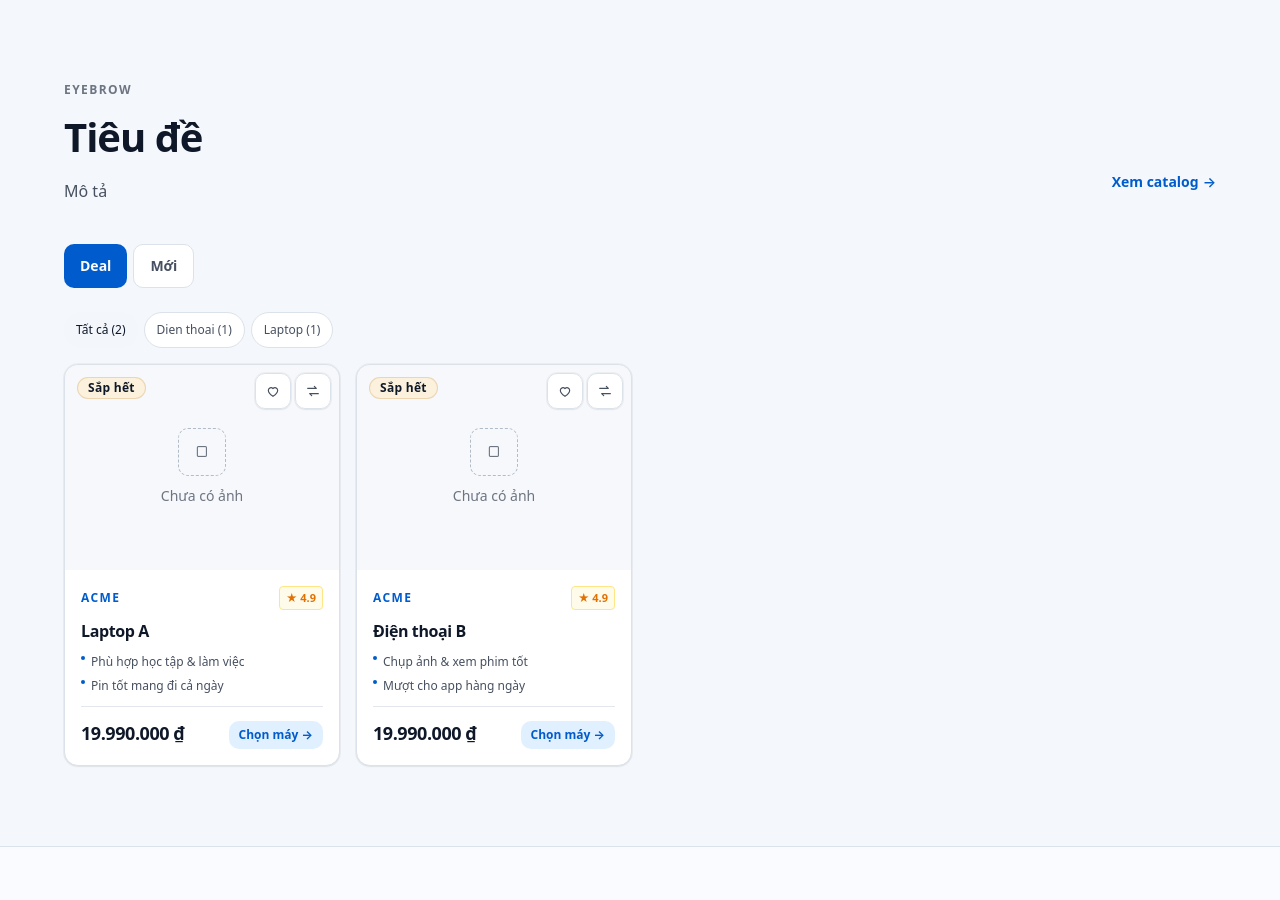
Test case: DealTabsSection › filters the loaded products by category without navigating
# Counts come from the products actually on screen.
Click the button "Dien thoai (1)" at coordinates (194, 330), box x1=144 y1=312 x2=245 y2=348
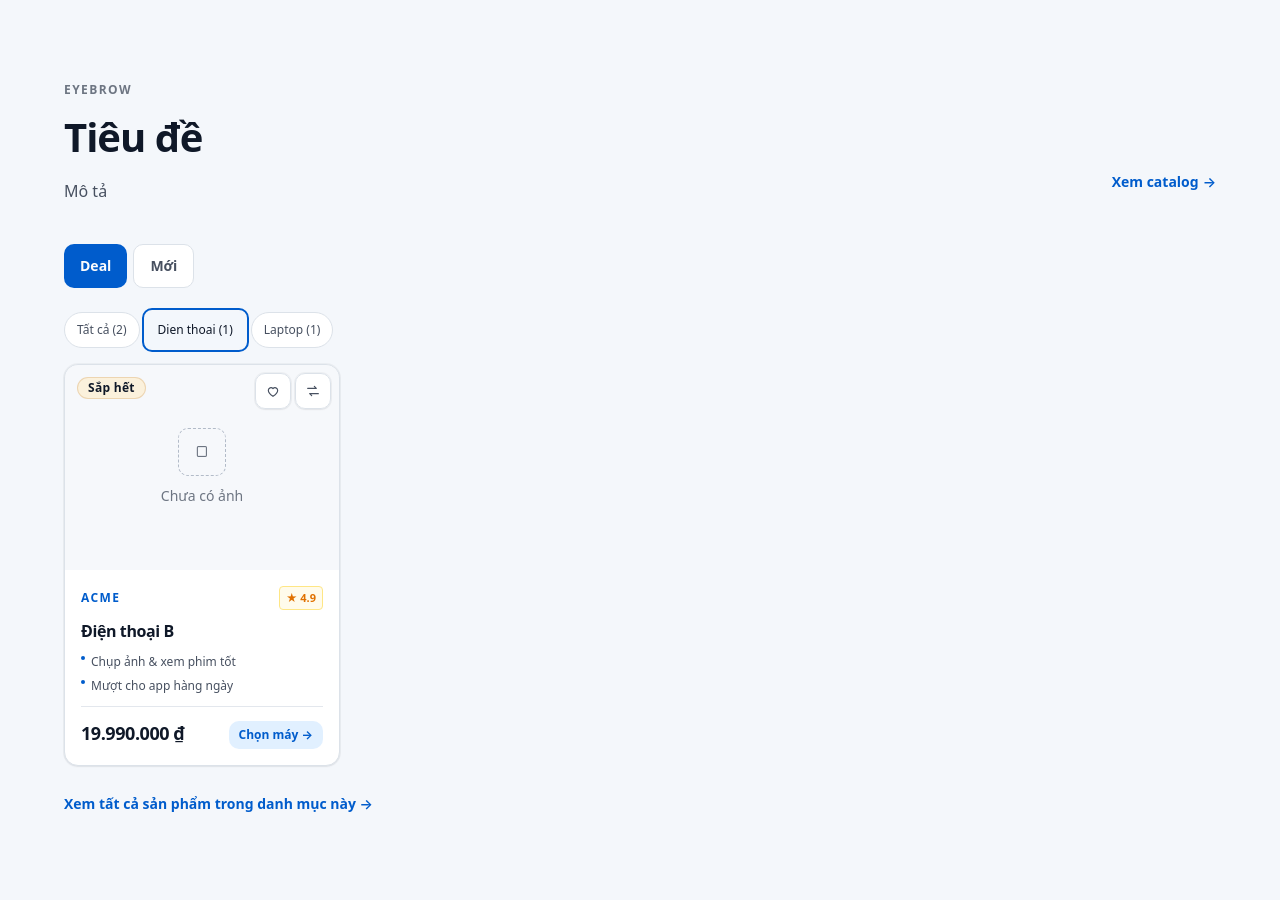
expect the link "Điện thoại B" is shown: met, box x1=81 y1=620 x2=174 y2=642
expect the link "Laptop A" is gone: met
